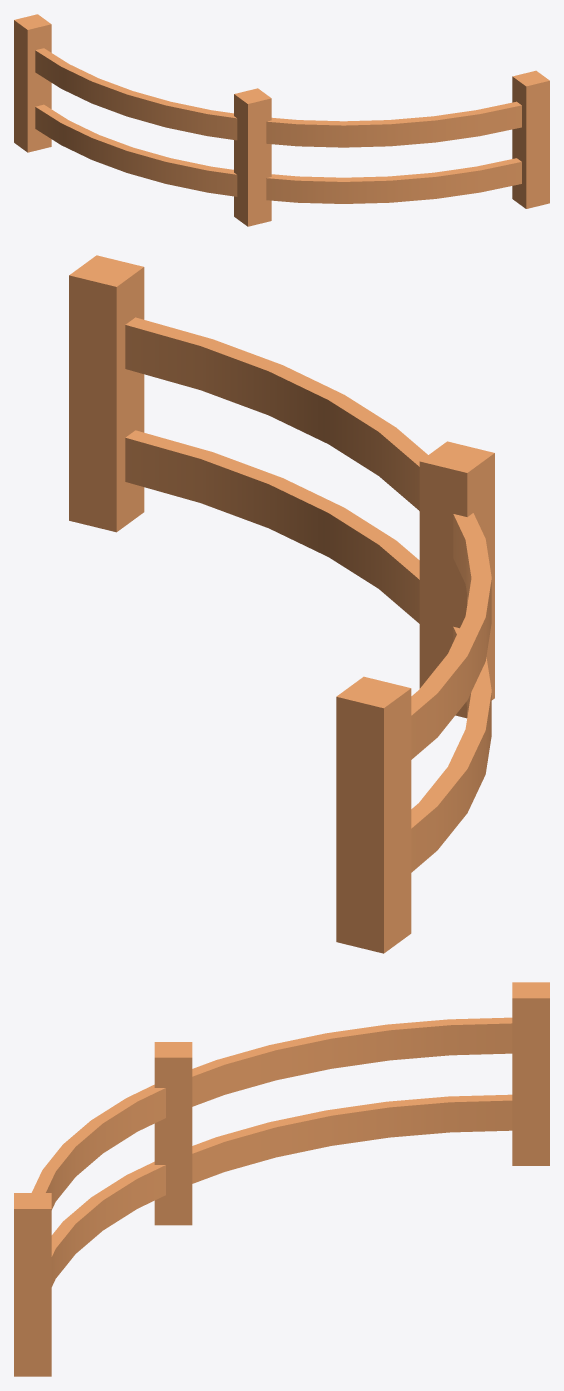
Rendered from fence_cornerRoundStrong.obj.
The picture shows the model from 3 angles, top to bottom: view 1: azimuth 30°, elevation 25°; view 2: azimuth 150°, elevation 25°; view 3: azimuth 270°, elevation 25°; orthographic projection. The views are drawn at different scales.
Visible parts, largest first — view 1: fence_cornerRoundStrong; view 2: fence_cornerRoundStrong; view 3: fence_cornerRoundStrong.
Part boxes in pixels (x1,y1,x2,y2): fence_cornerRoundStrong: (14,14,549,226); fence_cornerRoundStrong: (69,255,494,953); fence_cornerRoundStrong: (14,982,549,1376).
Size of the model in its own units: 10 by 3.45 by 10.
